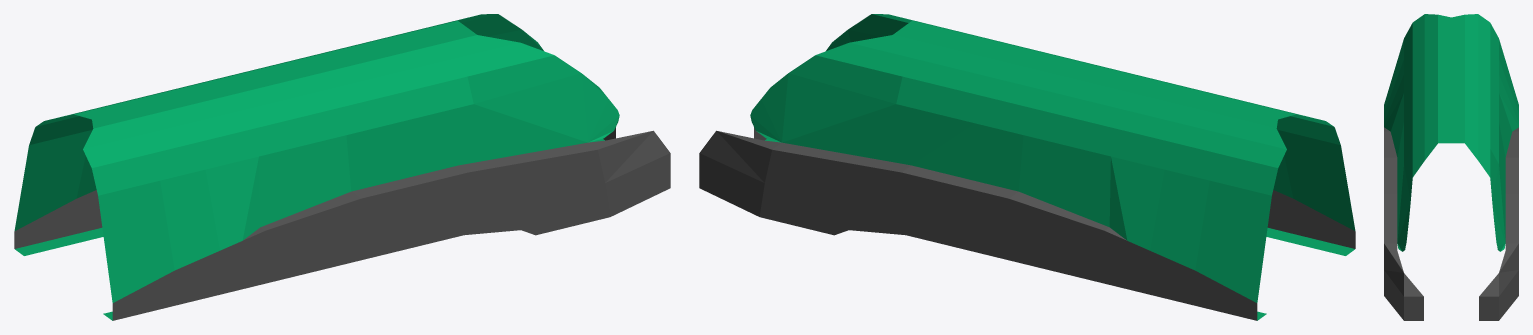
File: a4-valances.dae
3 views of the same model, side by side, from view 1: azimuth 30°, elevation 25°; view 2: azimuth 150°, elevation 25°; view 3: azimuth 270°, elevation 25° (orthographic). The views are drawn at different scales.
Visible parts, largest first — view 1: Plane_022, Plane_007; view 2: Plane_007, Plane_022; view 3: Plane_007, Plane_022.
Part boxes in pixels (x1,y1,x2,y2): Plane_022: (83, 28, 670, 320); Plane_007: (14, 14, 615, 255); Plane_007: (699, 28, 1286, 320); Plane_022: (754, 14, 1355, 255); Plane_007: (1451, 14, 1518, 320); Plane_022: (1384, 14, 1451, 320).
Bounding box in the file's own units: 6.8 × 2.02 × 2.
